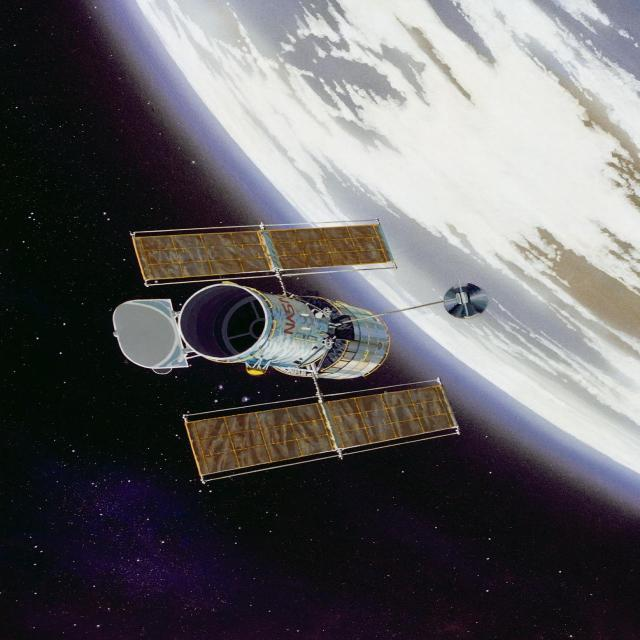medium_debris: (113, 220, 487, 480)
